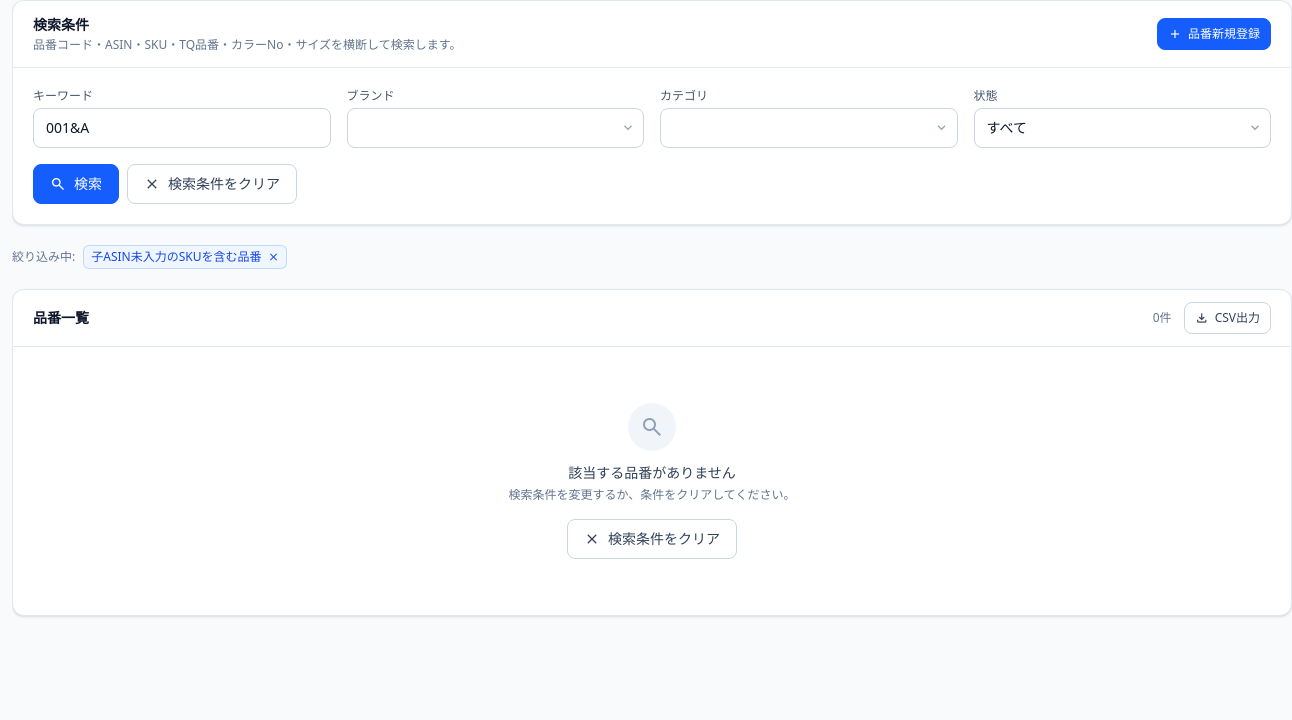
Test: 検索条件を引き継ぎページ指定なしでCSVを出力し、処理中は連打を防ぐ
The image size is (1292, 720).
Click the button titled "検索結果の全SKUをCSV取込形式で出力": (1227, 318) [1184,302,1271,334]
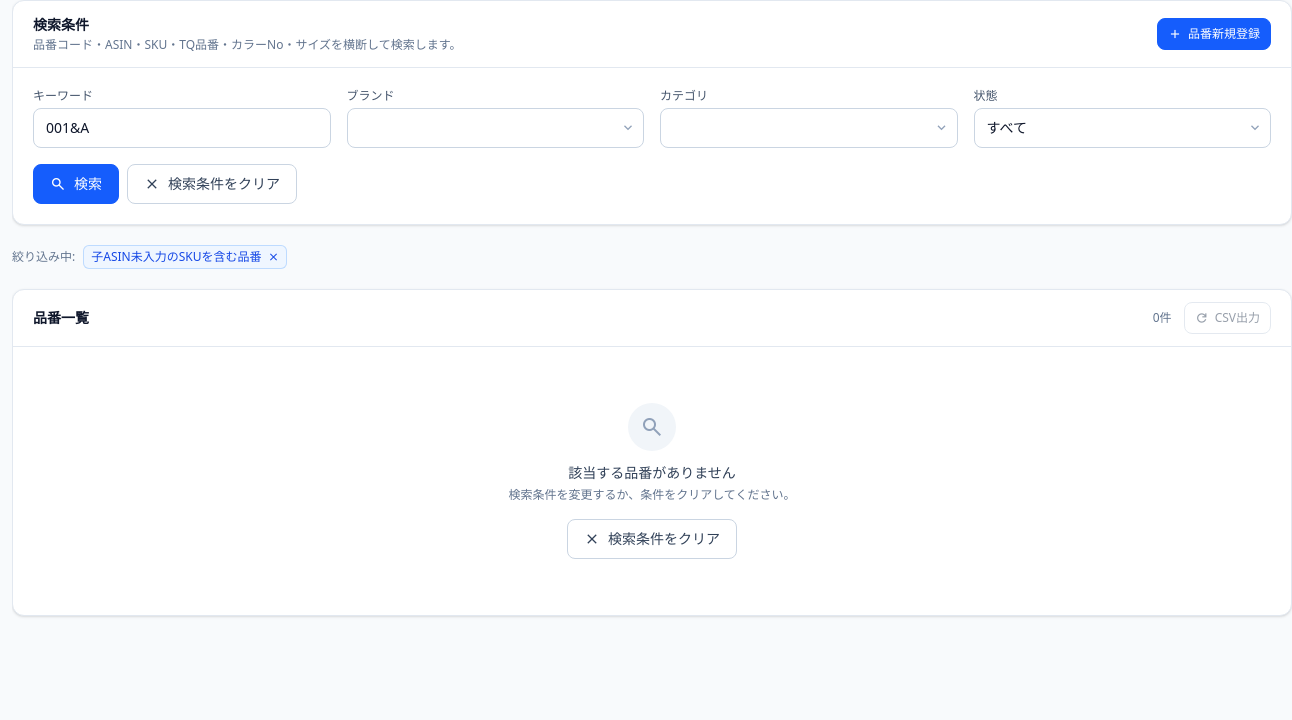
Now the button titled "検索結果の全SKUをCSV取込形式で出力" is disabled
Click the button titled "検索結果の全SKUをCSV取込形式で出力": (1227, 318) [1184,302,1271,334]
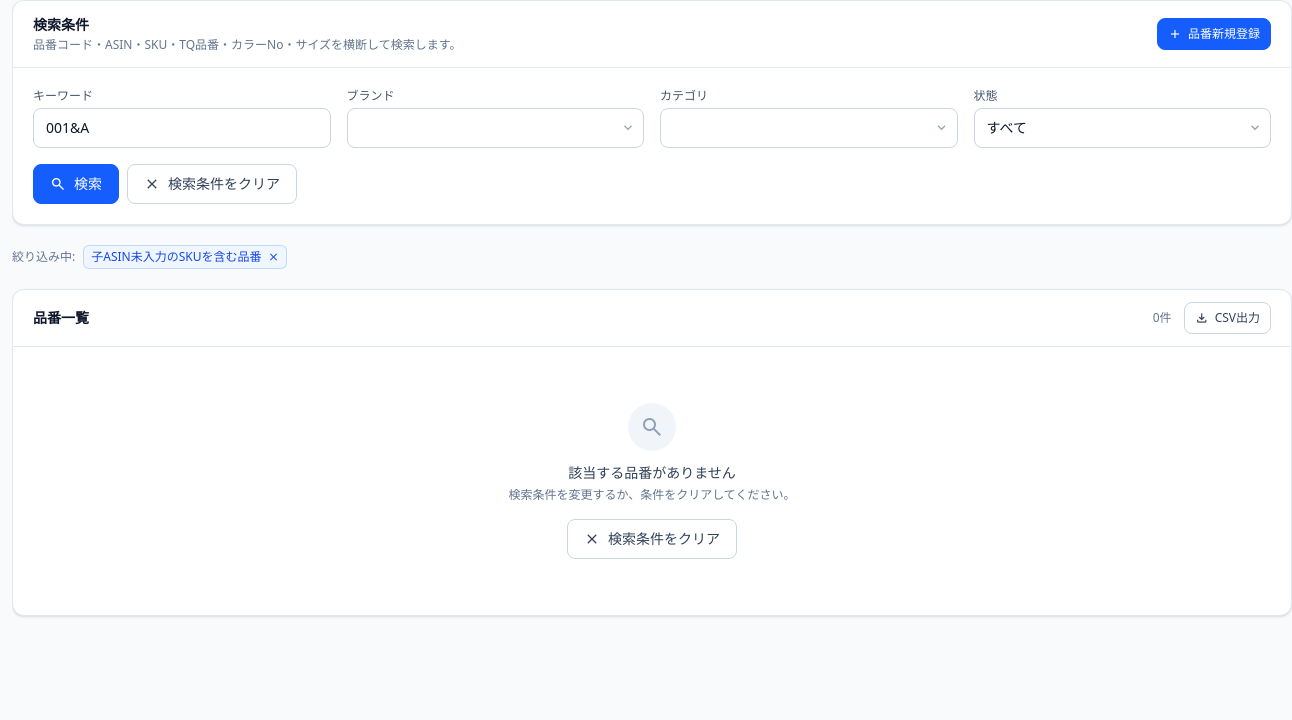
Now the button titled "検索結果の全SKUをCSV取込形式で出力" is enabled, box [1184,302,1271,334]
